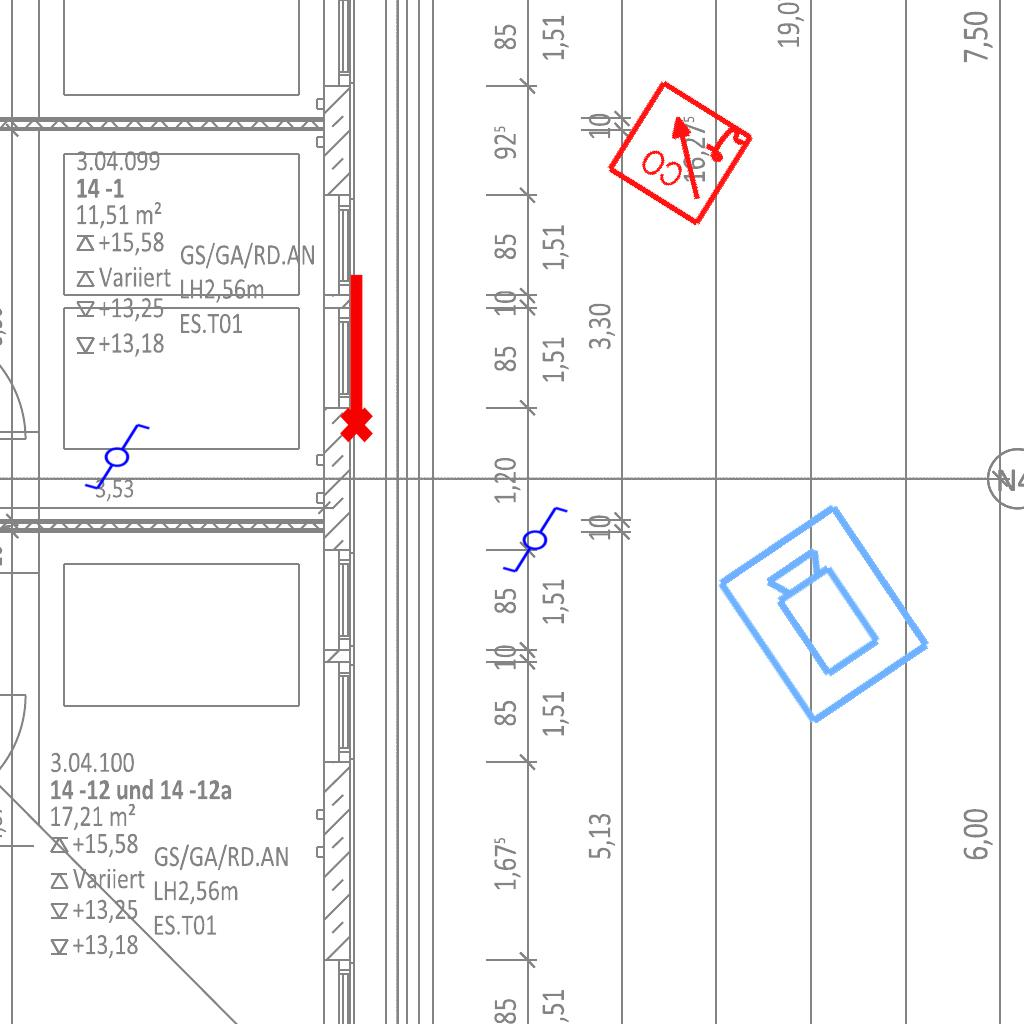ASR_Ansaugoeffnung: (331, 269, 377, 445)
KFO_Kamera_mit_Festobjektiv: (710, 495, 940, 733)
ROA_Rauchmelder_optisch_mit_Signalgeber_(Sockelsirene): (602, 73, 759, 230)
Wechselschalter: (74, 420, 152, 492), (492, 503, 570, 575)
